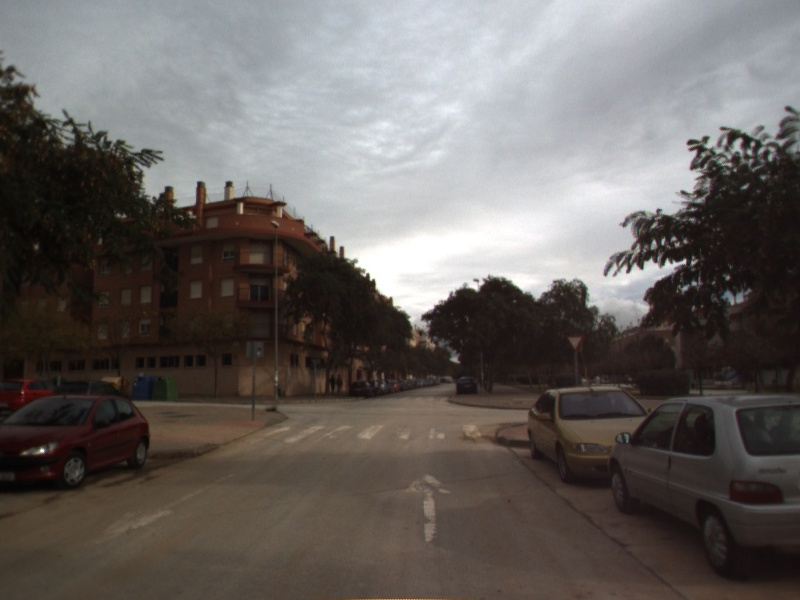STRAIGHT: (400, 471, 455, 544)
